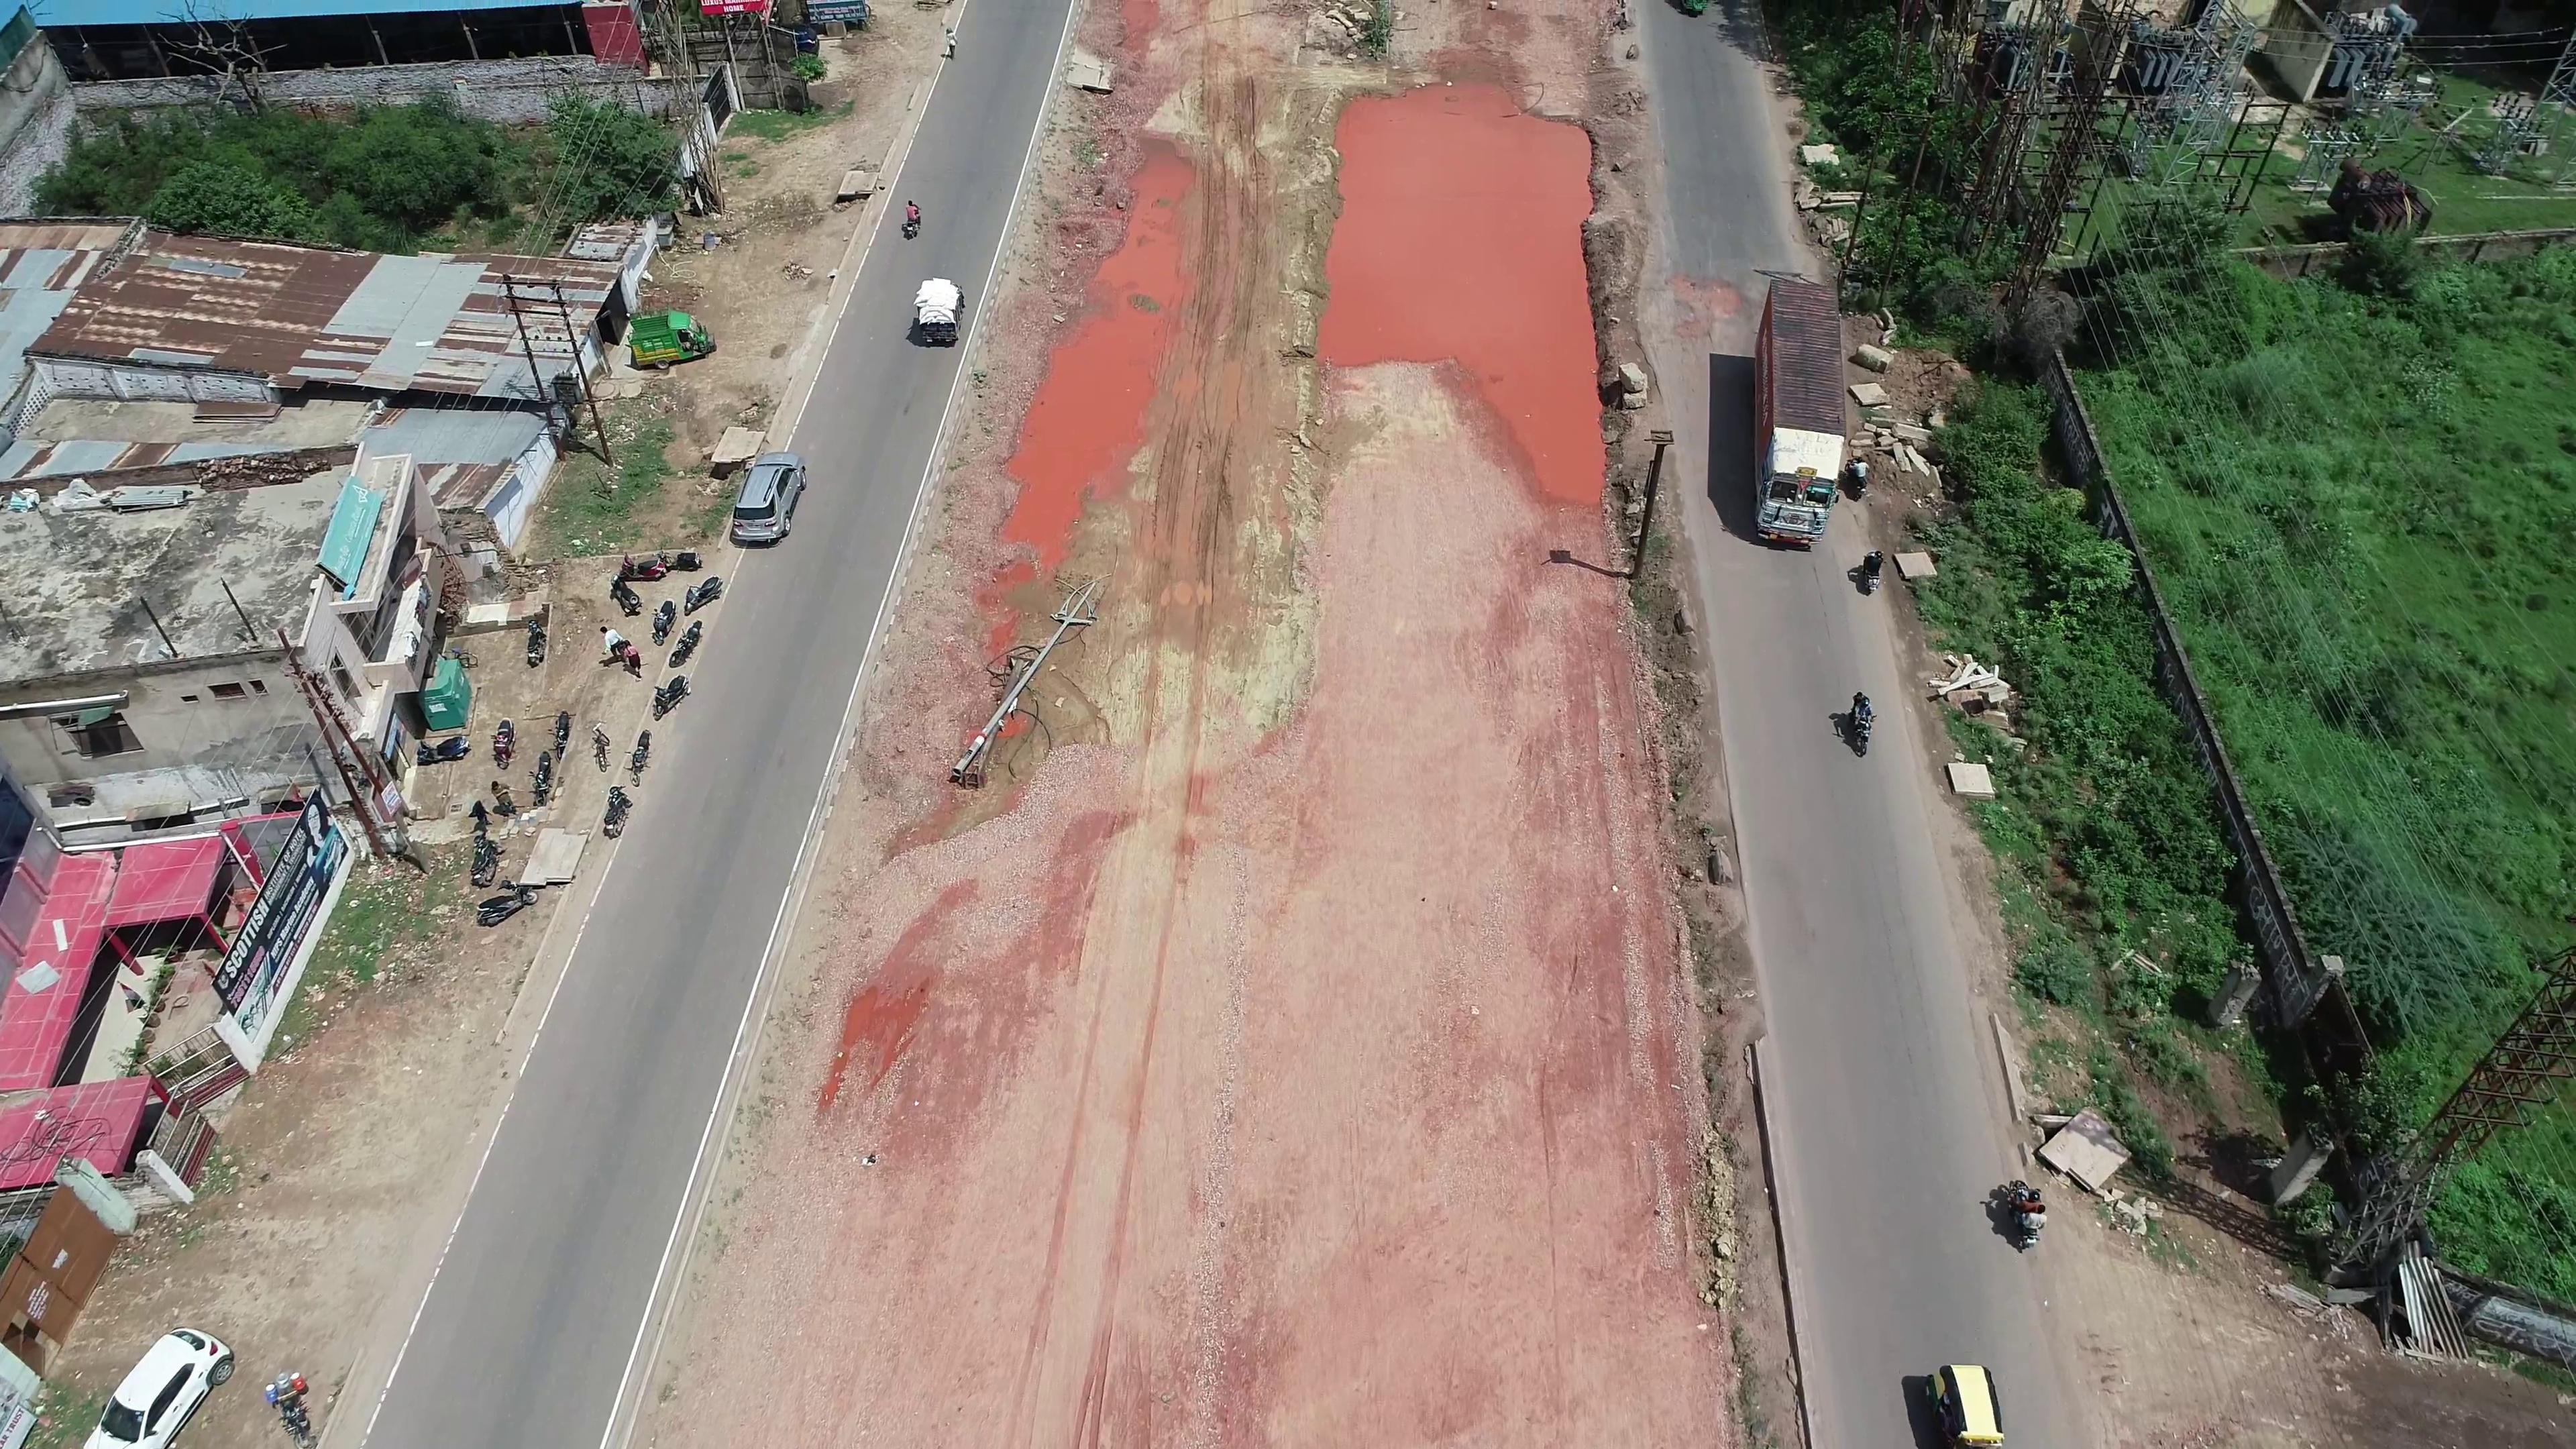Potholes: (1658, 242, 1753, 345)
